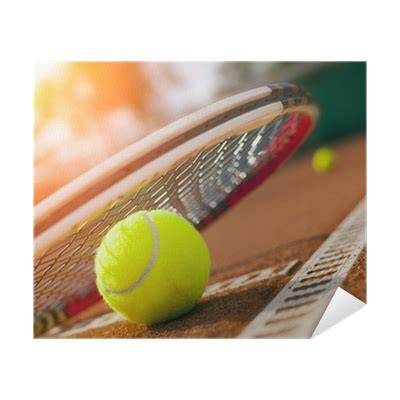tennis_ball: (94, 210, 210, 326)
